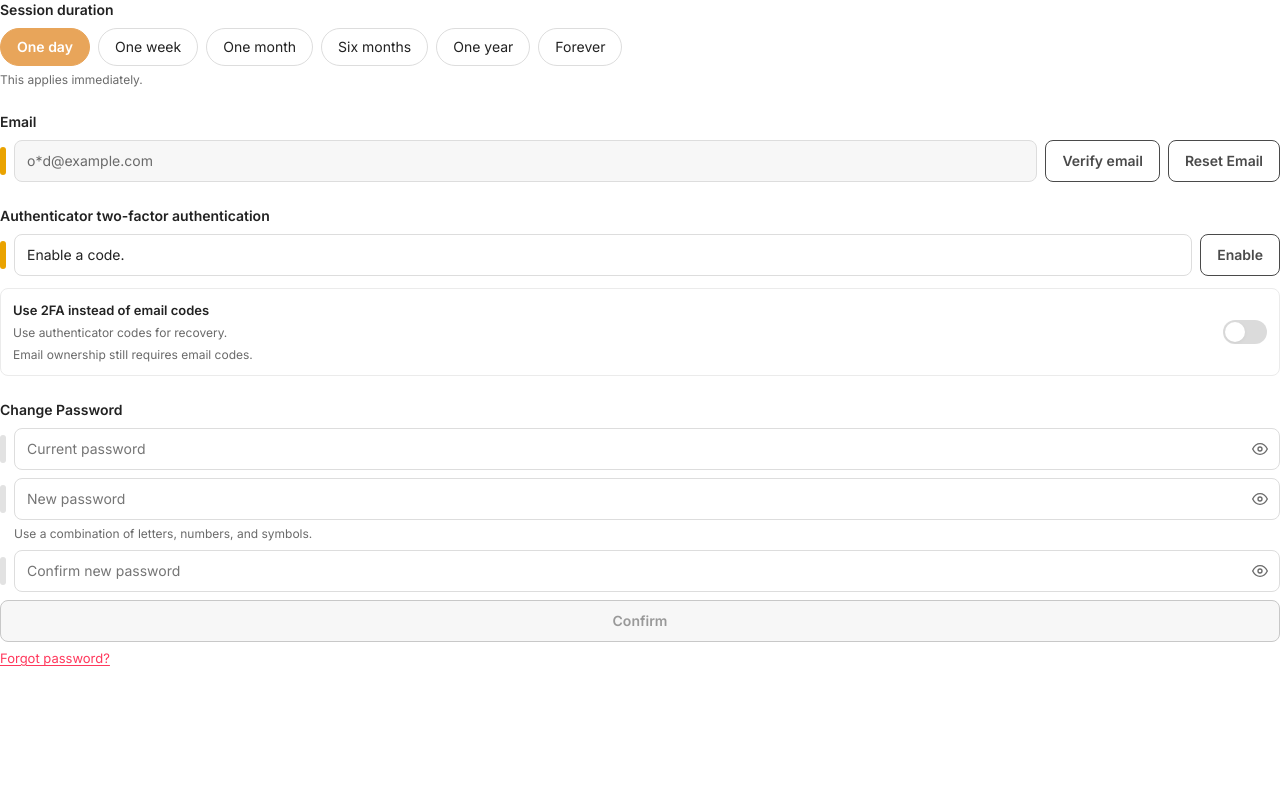
Test: SecurityPanel › opens a success modal after password update succeeds
Type "oldpass123" into the password field with placeholder "Current password" at (647, 449), box [14,428,1279,470]
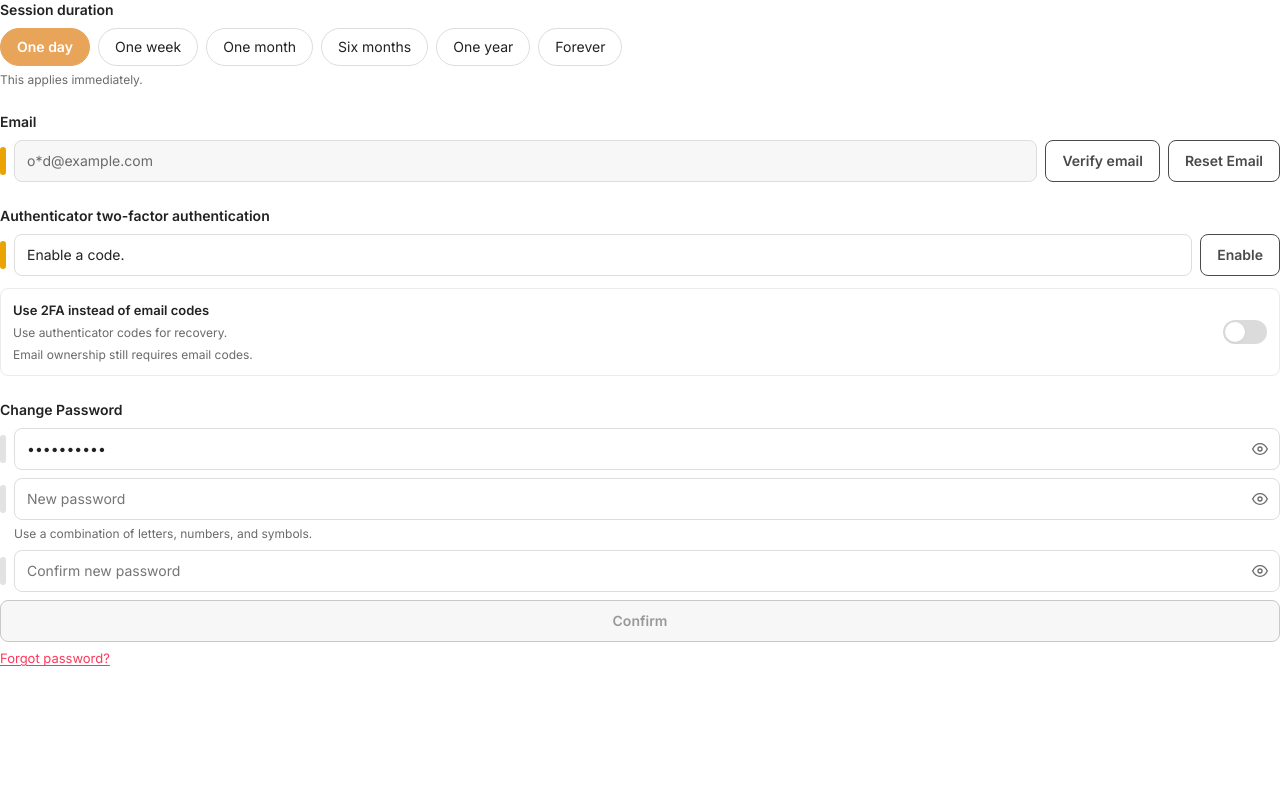
Type "Newpass123!" into the password field with placeholder "New password" at (647, 499), box [14,478,1279,520]
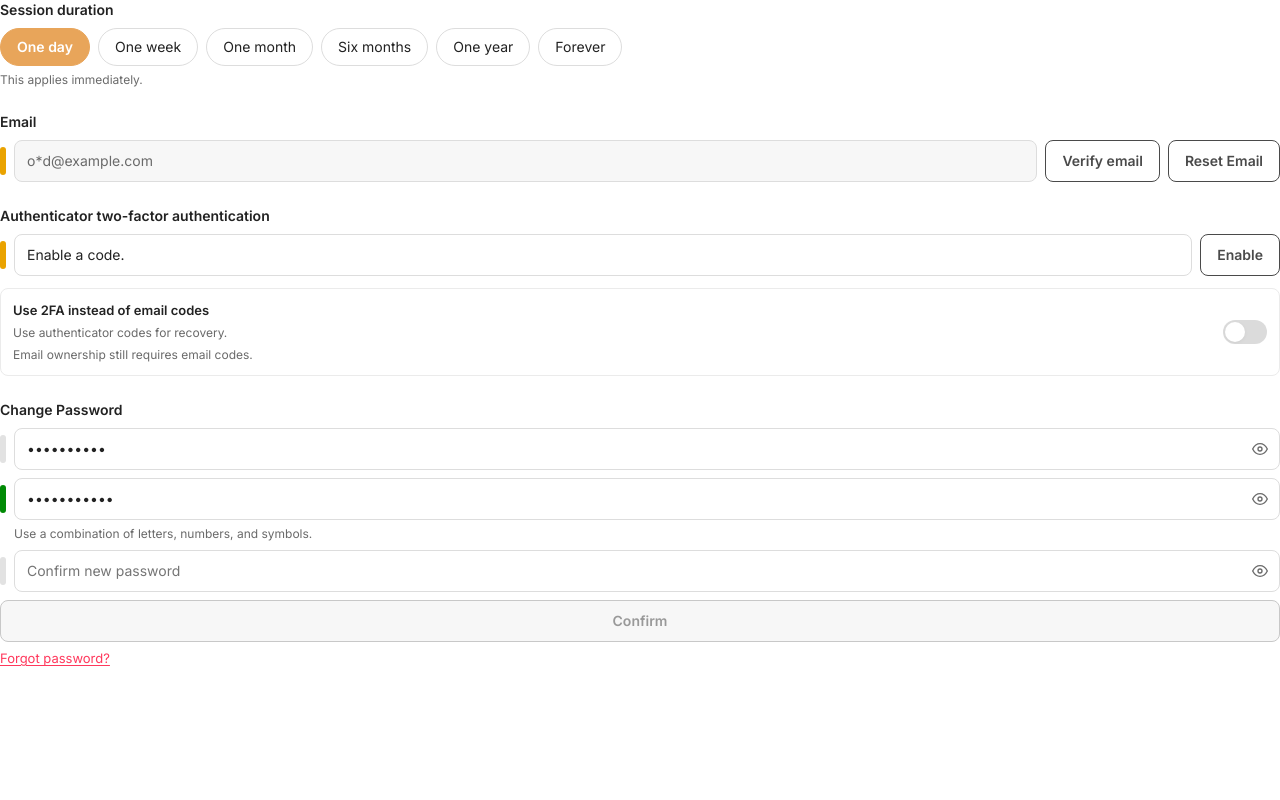
Type "Newpass123!" into the password field with placeholder "Confirm new password" at (647, 571), box [14,550,1279,592]
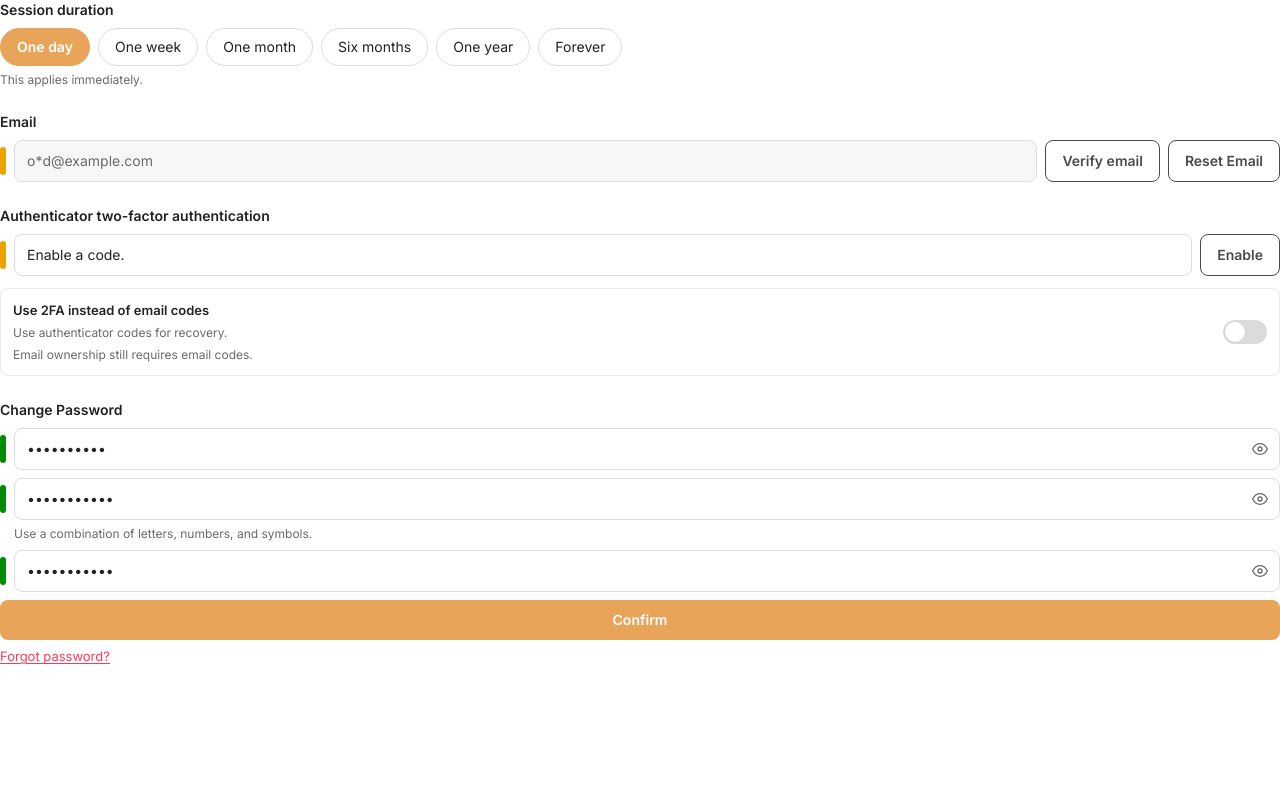
Check: the button "Confirm" is enabled
Click the button "Confirm" at (640, 620), box [0,600,1279,640]
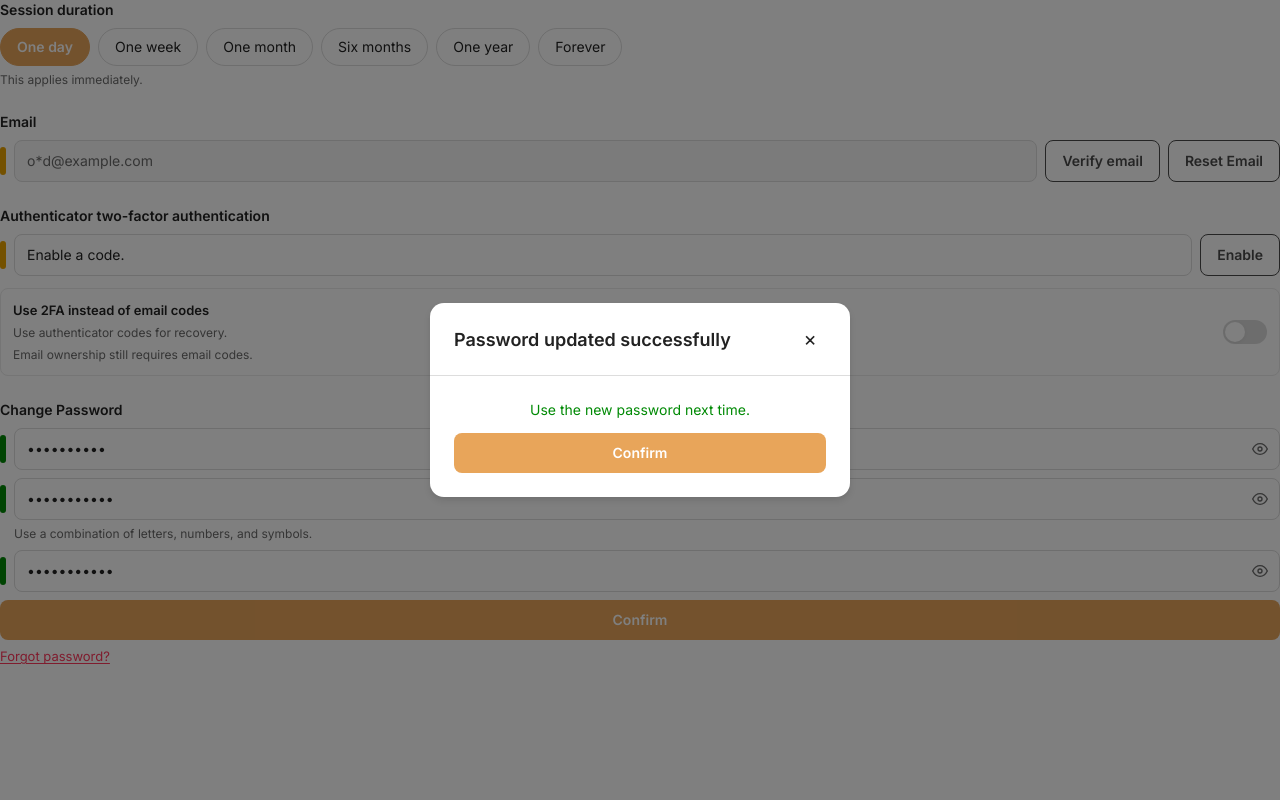
Check: the heading "Password updated successfully" is shown, box [454,329,731,350]
